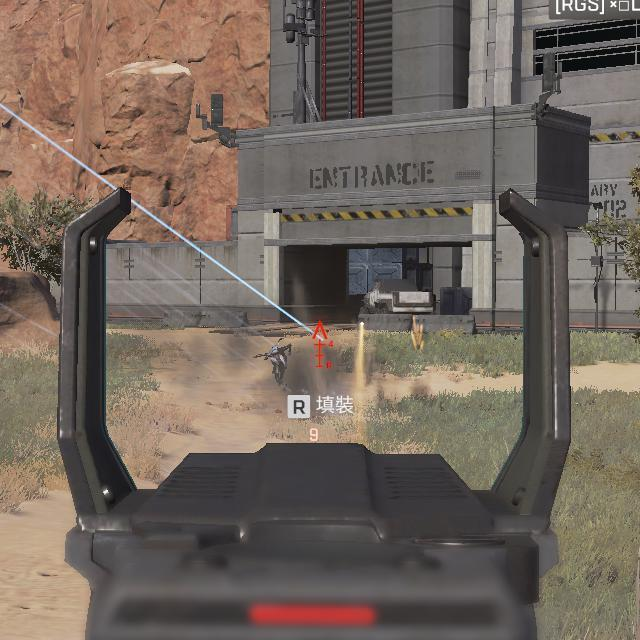avatar: (262, 339, 293, 389)
